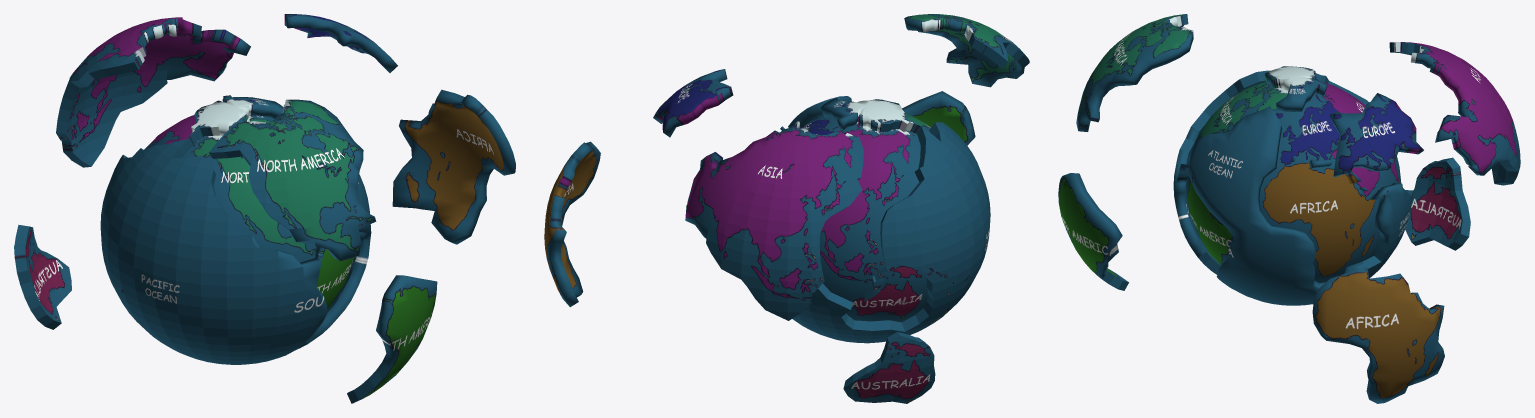
Rendered from earth_cut_test2t.fbx.
3 views of the same model, side by side, from view 1: azimuth 30°, elevation 25°; view 2: azimuth 150°, elevation 25°; view 3: azimuth 270°, elevation 25° (orthographic). The views are drawn at different scales.
Visible parts, largest first — view 1: Sphere.007, Sphere.002, Sphere.005, Sphere.001, Sphere.008, Sphere.003, Sphere.006, Sphere.004, Sphere; view 2: Sphere.005, Sphere.007, Sphere.008, Sphere.002, Sphere.006, Sphere.001, Sphere.004, Sphere.003, Sphere; view 3: Sphere.007, Sphere.008, Sphere.001, Sphere.005, Sphere.002, Sphere.004, Sphere.006, Sphere.003.
Part boxes in pixels (x1,y1,x2,y2): Sphere.007: [100, 95, 371, 364]; Sphere.002: [209, 99, 376, 260]; Sphere.005: [61, 17, 250, 167]; Sphere.001: [392, 89, 515, 244]; Sphere.008: [145, 115, 354, 308]; Sphere.003: [347, 275, 437, 403]; Sphere.006: [14, 224, 71, 329]; Sphere.004: [284, 14, 397, 72]; Sphere: [56, 86, 79, 141]; Sphere.005: [685, 121, 863, 320]; Sphere.007: [780, 96, 990, 343]; Sphere.008: [800, 113, 930, 322]; Sphere.002: [904, 14, 1029, 87]; Sphere.006: [843, 332, 935, 403]; Sphere.001: [544, 141, 600, 307]; Sphere.004: [653, 69, 733, 137]; Sphere.003: [902, 91, 975, 145]; Sphere: [811, 234, 824, 292]; Sphere.007: [1173, 66, 1413, 305]; Sphere.008: [1185, 82, 1401, 282]; Sphere.001: [1312, 267, 1444, 403]; Sphere.005: [1389, 42, 1520, 185]; Sphere.002: [1076, 14, 1193, 131]; Sphere.004: [1330, 93, 1423, 177]; Sphere.006: [1405, 157, 1470, 250]; Sphere.003: [1058, 173, 1128, 290].
Bounding box in the file's own units: 456 × 289 × 462.
